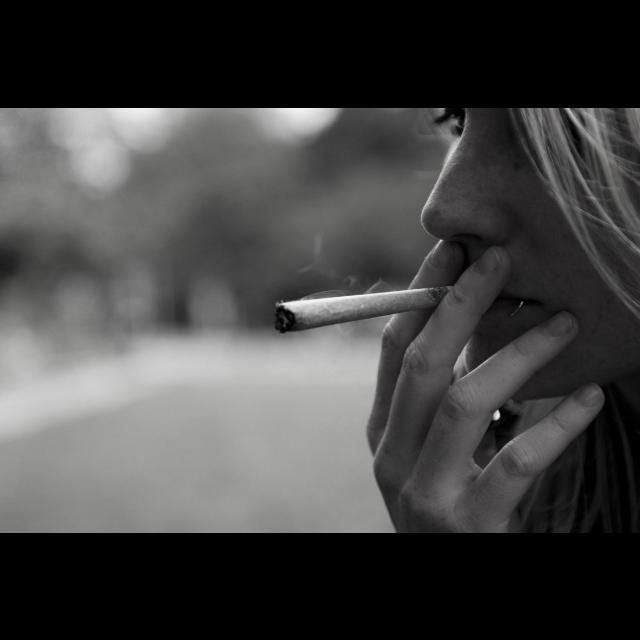rokok: (271, 273, 461, 331)
